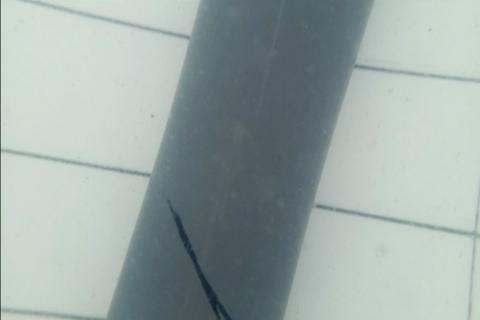keretakan: (167, 198, 234, 320)
